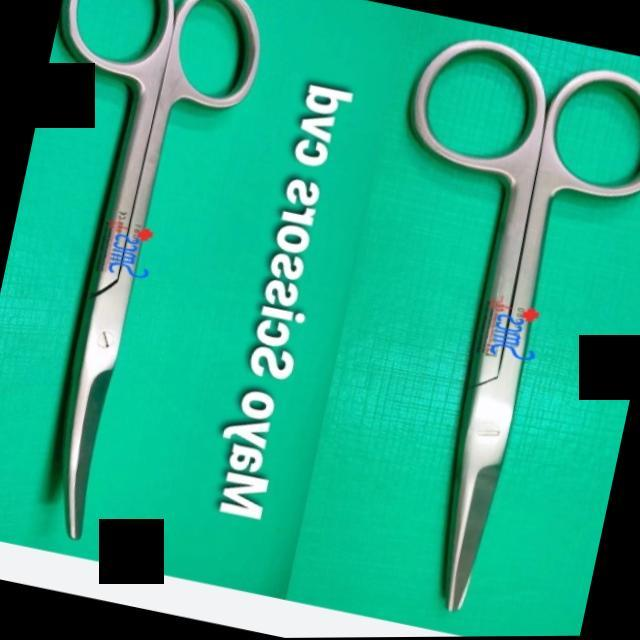Curved Mayo: (0, 0, 282, 563)
Straight Mayo: (300, 22, 640, 638)
